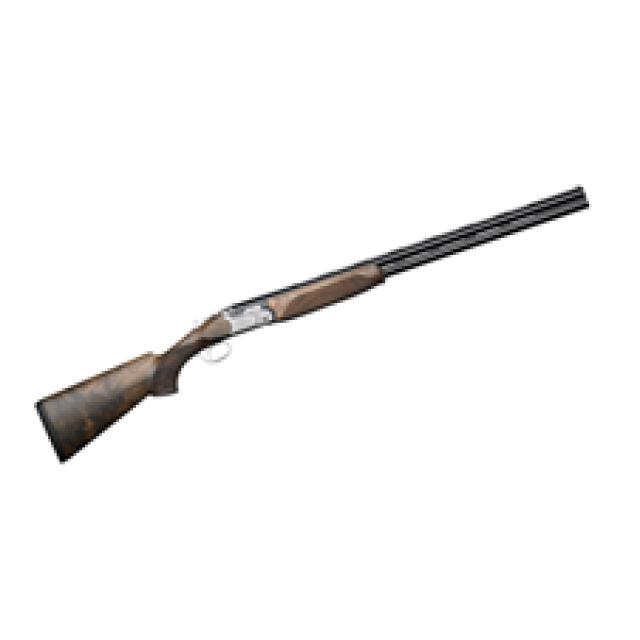rifle: (27, 178, 605, 481)
